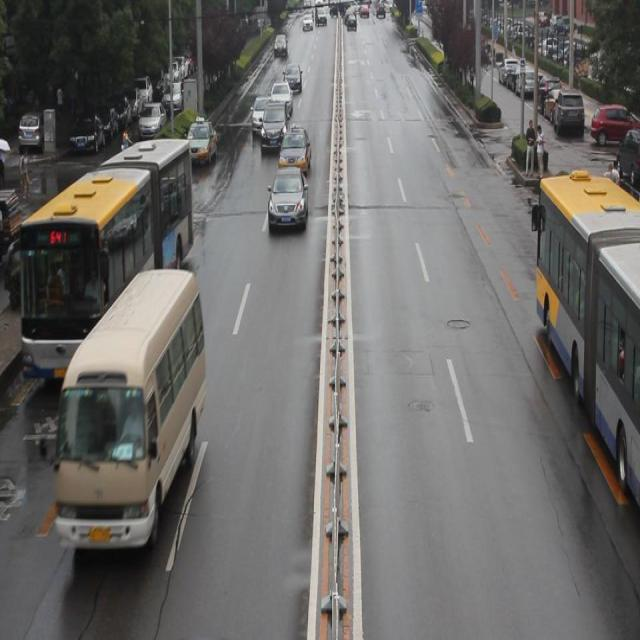car: (109, 151, 175, 212), (269, 167, 306, 234), (183, 119, 216, 170), (279, 126, 311, 176), (260, 102, 288, 152), (250, 94, 274, 138)
truck: (55, 274, 202, 546)
van: (18, 142, 196, 377), (531, 183, 640, 519)
